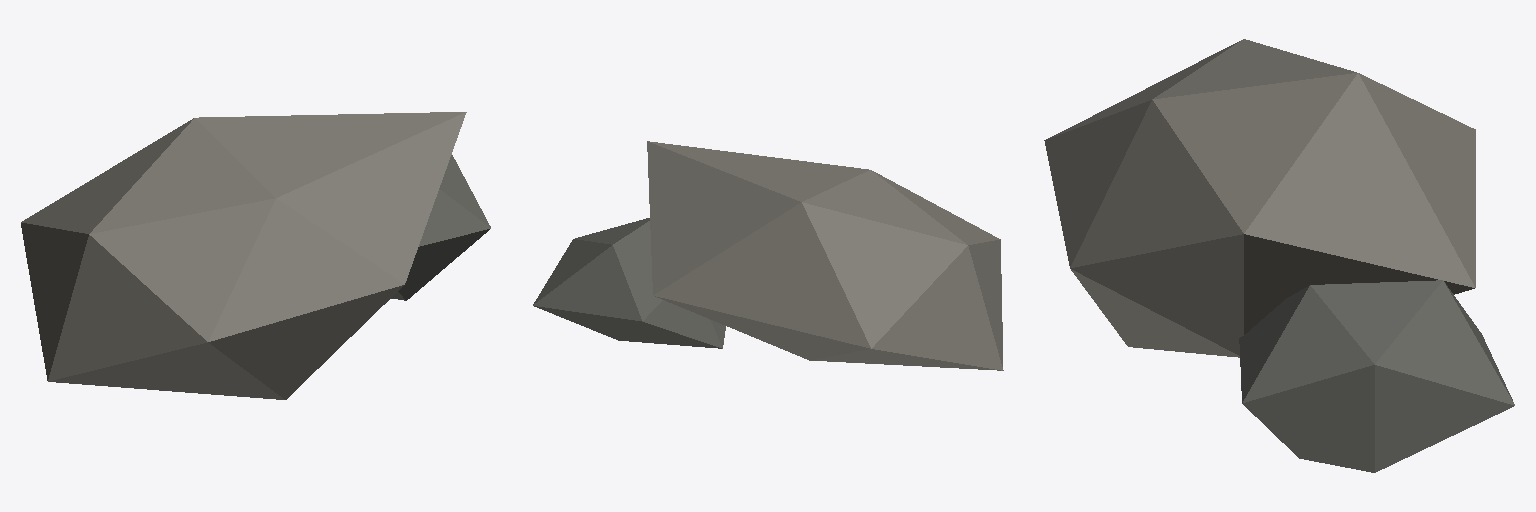
URDF robot description (rock):
<?xml version="1.0" encoding="utf-8"?>
<!-- Generated by tools/generate_assets.py -->
<robot name="rock">
  <link name="base_link">
    <inertial>
      <mass value="0" />
      <inertia ixx="0" ixy="0" ixz="0" iyy="0" iyz="0" izz="0" />
    </inertial>
    <visual name="part_0">
      <geometry><mesh filename="meshes/rock_v0.obj" /></geometry>
      <material name="rock_0"><color rgba="0.53 0.52 0.49 1" /></material>
    </visual>
    <visual name="part_1">
      <geometry><mesh filename="meshes/rock_v1.obj" /></geometry>
      <material name="rock_1"><color rgba="0.43 0.43 0.41 1" /></material>
    </visual>
    <collision name="hull_0">
      <geometry><mesh filename="meshes/rock_c0.obj" /></geometry>
    </collision>
    <collision name="hull_1">
      <geometry><mesh filename="meshes/rock_c1.obj" /></geometry>
    </collision>
  </link>
</robot>

--- Render facts (derived) ---
3 views of the same robot in one strip: view 1: azimuth 30°, elevation 25°; view 2: azimuth 150°, elevation 25°; view 3: azimuth 270°, elevation 25° (orthographic).
Model rock with 1 links and 0 joints (none), rooted at base_link, posed all joints at 0.
Links seen in each view (by area): view 1: base_link; view 2: base_link; view 3: base_link.
Boxes of the visible links, box(x1,y1,x2,y2) form: base_link: box(21, 112, 490, 399); base_link: box(533, 141, 1003, 370); base_link: box(1044, 39, 1514, 472).
Bounding box of the posed robot: 2.36 × 1.62 × 1.04 m (x, y, z).
Meshes: 2 distinct files referenced, 2 mesh visuals loaded (2 OBJ).
